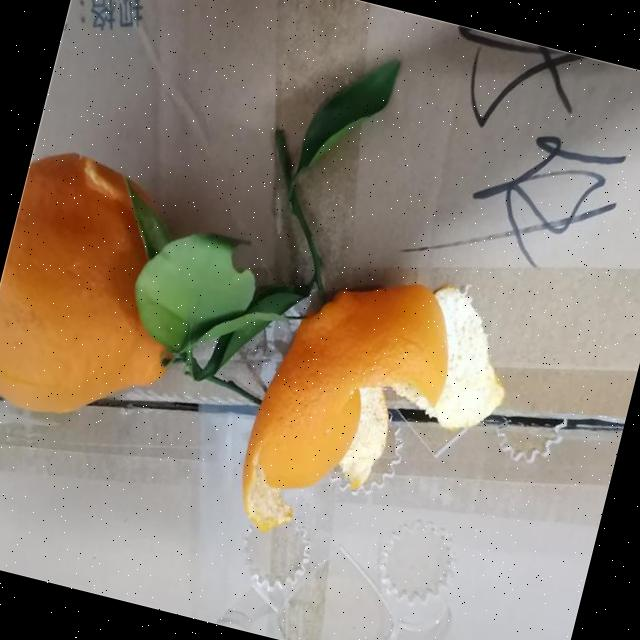orange-peel: (227, 250, 468, 564), (0, 140, 215, 441)
